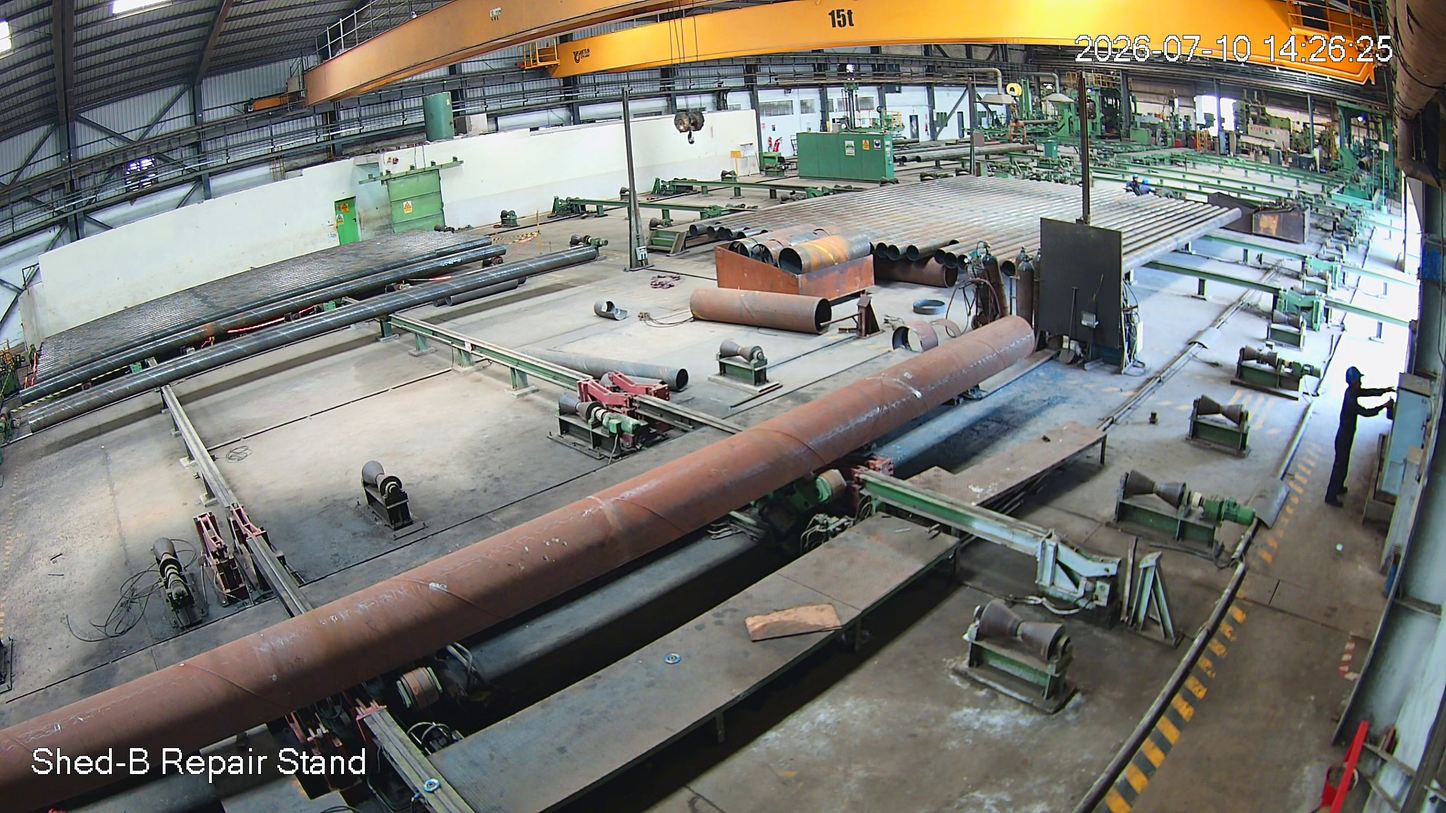Helmet: (1339, 359, 1365, 401)
Person: (1322, 363, 1379, 529)
